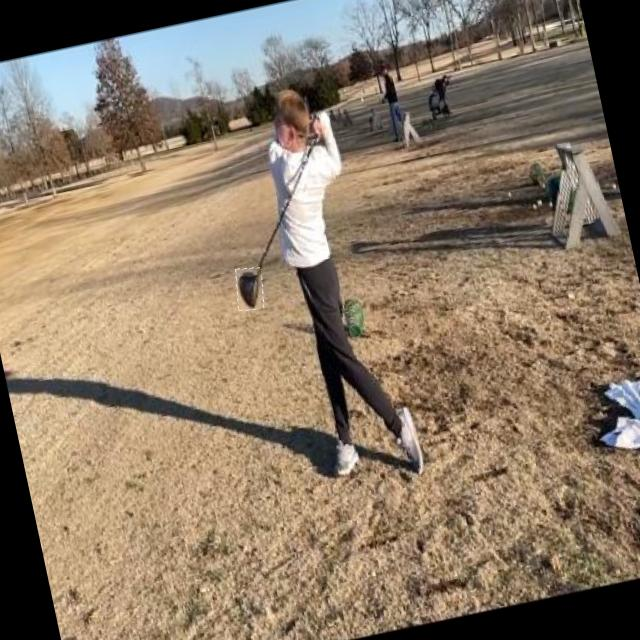club head: (232, 264, 267, 312)
